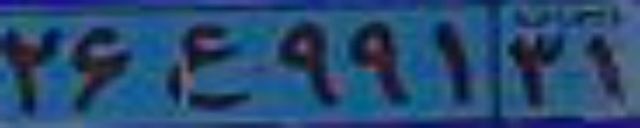1: (434, 23, 473, 104), (581, 33, 619, 102)
2: (2, 24, 57, 114)
3: (507, 34, 567, 107)
6: (64, 27, 133, 112)
9: (275, 23, 342, 105), (346, 23, 411, 106)
ain: (166, 24, 256, 110)
